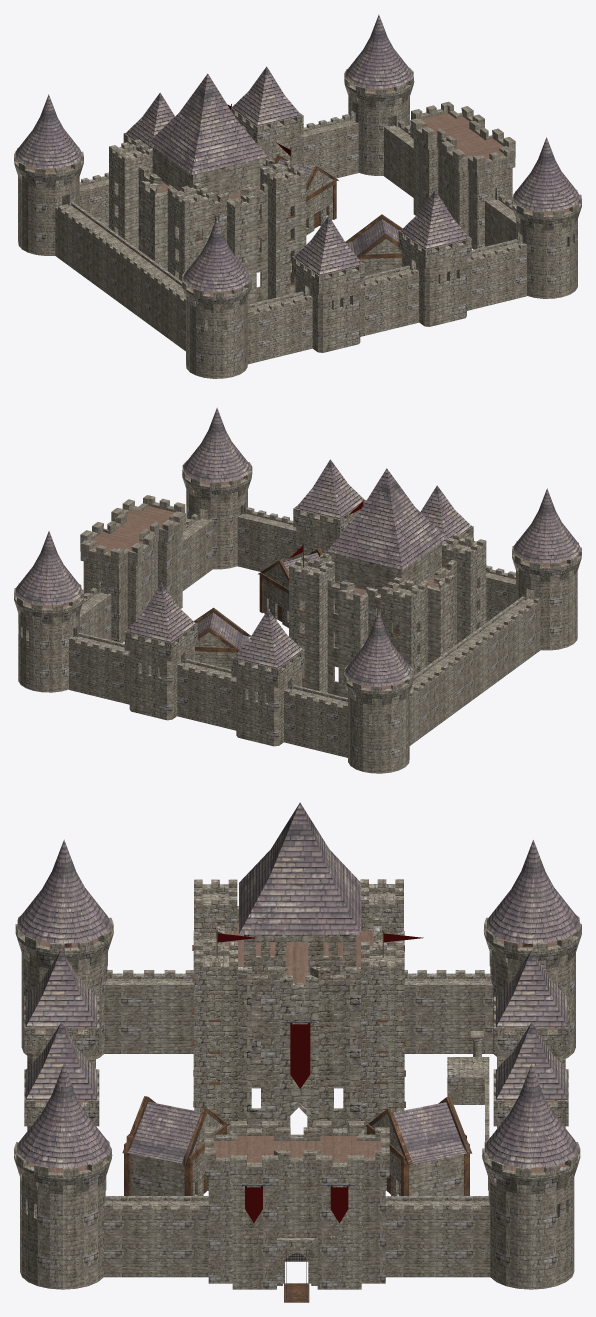
File: Castle Pack.obj
3 views of the same model, one above another, from view 1: azimuth 30°, elevation 25°; view 2: azimuth 150°, elevation 25°; view 3: azimuth 270°, elevation 25° (orthographic). The views are drawn at different scales.
Visible parts, largest first — view 1: Input_Cube.014, Kingdom_Cube.068, Rooftiles.004_Cube.082, Tower.003_Cylinder.006, Tower_Cylinder.002, Kingdom_tower_Cube.029, Square_Tower.003_Cube.030, Square_Tower.002_Cube.008, Tower.002_Cylinder.005, Wall.007_Cube.032, Tower.001_Cylinder.004, Wall.003_Cube.021 (+23 smaller); view 2: Input_Cube.014, Kingdom_Cube.068, Rooftiles.004_Cube.082, Tower.002_Cylinder.005, Tower.001_Cylinder.004, Kingdom_tower.001_Cube.041, Square_Tower_Cube.020, Square_Tower.001_Cube.028, Tower.003_Cylinder.006, Tower_Cylinder.002, Wall.006_Cube.033, Wall.002_Cube.010 (+23 smaller); view 3: Input_Cube.014, Kingdom_Cube.068, Rooftiles.004_Cube.082, Tower.001_Cylinder.004, Tower_Cylinder.002, Wall.001_Cube.009, Wall_Cube.022, Kingdom_tower_Cube.029, Kingdom_tower.001_Cube.041, House_Plane.004, Wall.008_Cube.025, House.001_Plane.006 (+21 smaller).
Part boxes in pixels (x1,y1,x2,y2): Input_Cube.014: (410,101,515,249); Kingdom_Cube.068: (138,157,275,304); Rooftiles.004_Cube.082: (148,73,267,174); Tower.003_Cylinder.006: (181,270,251,378); Tower_Cylinder.002: (512,190,581,298); Kingdom_tower_Cube.029: (260,160,306,299); Square_Tower.003_Cube.030: (292,256,365,352); Square_Tower.002_Cube.008: (398,230,471,326); Tower.002_Cylinder.005: (14,147,83,255); Wall.007_Cube.032: (247,291,312,364); Tower.001_Cylinder.004: (344,67,414,175); Wall.003_Cube.021: (467,239,526,310); Input_Cube.014: (80,495,185,642); Kingdom_Cube.068: (320,552,456,697); Rooftiles.004_Cube.082: (327,468,446,569); Tower.002_Cylinder.005: (343,664,413,773); Tower.001_Cylinder.004: (14,583,83,692); Kingdom_tower.001_Cube.041: (289,555,334,692); Square_Tower_Cube.020: (124,623,197,720); Square_Tower.001_Cube.028: (231,649,304,746); Tower.003_Cylinder.006: (512,541,581,650); Tower_Cylinder.002: (182,460,252,569); Wall.006_Cube.033: (284,685,347,757); Wall.002_Cube.010: (69,632,129,704); Input_Cube.014: (204,1121,389,1289); Kingdom_Cube.068: (193,906,404,1128); Rooftiles.004_Cube.082: (239,802,361,934); Tower.001_Cylinder.004: (482,1137,580,1289); Tower_Cylinder.002: (14,1140,112,1289); Wall.001_Cube.009: (385,1196,490,1277); Wall_Cube.022: (104,1196,208,1277); Kingdom_tower_Cube.029: (193,942,237,1134); Kingdom_tower.001_Cube.041: (361,941,405,1134); House_Plane.004: (122,1096,228,1195); Wall.008_Cube.025: (104,970,193,1053); House.001_Plane.006: (366,1096,472,1195).
Bounding box in the file's own units: 97 × 49 × 84.4.
